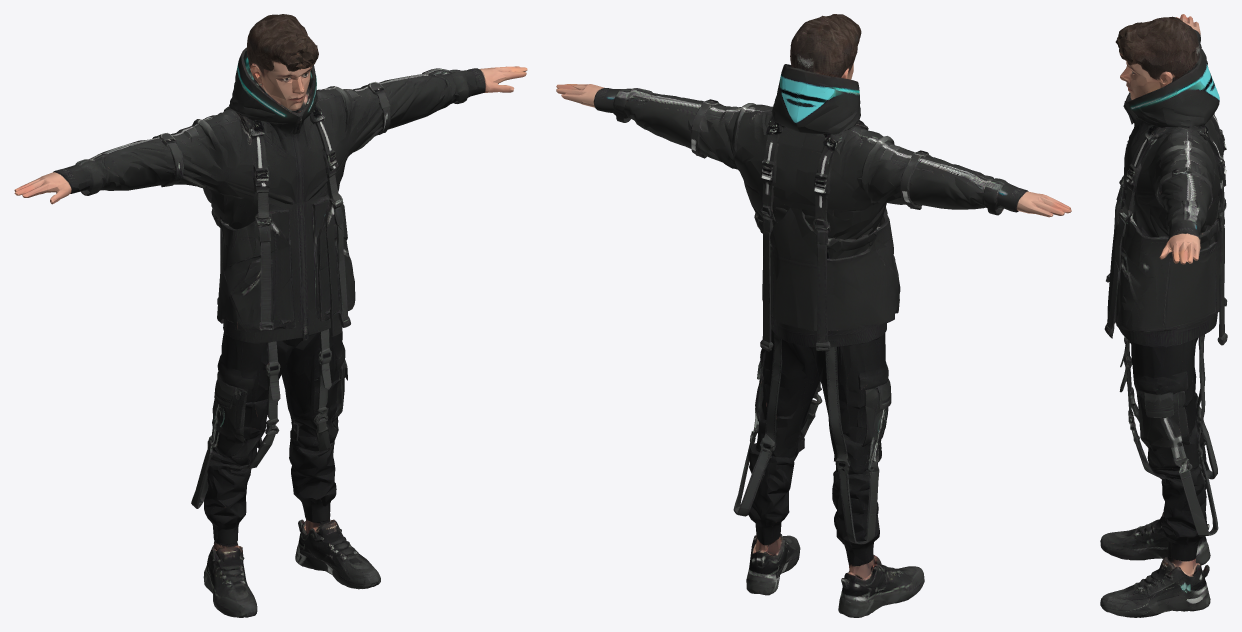
Rendered from ped_techwear.glb.
The picture shows the model from 3 angles, left to right: view 1: azimuth 30°, elevation 25°; view 2: azimuth 150°, elevation 25°; view 3: azimuth 270°, elevation 25°; orthographic projection.
Visible parts, largest first — view 1: Mesh_0; view 2: Mesh_0; view 3: Mesh_0.
Part boxes in pixels (left/top/right/bottom): Mesh_0: left=14, top=14, right=527, bottom=617; Mesh_0: left=556, top=14, right=1071, bottom=617; Mesh_0: left=1100, top=14, right=1227, bottom=617.
Size of the model in its own units: 1.79 by 1.9 by 0.3863.
Materials: 1 (1 with a texture image).
